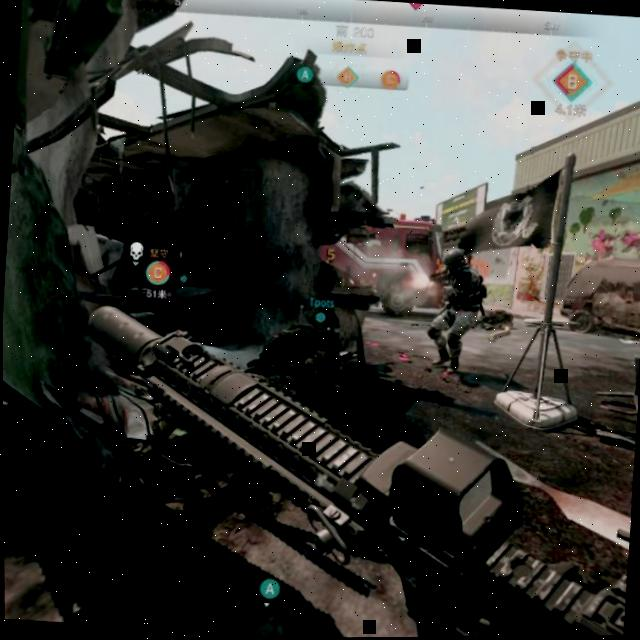MW2_body: (425, 247, 489, 376)
